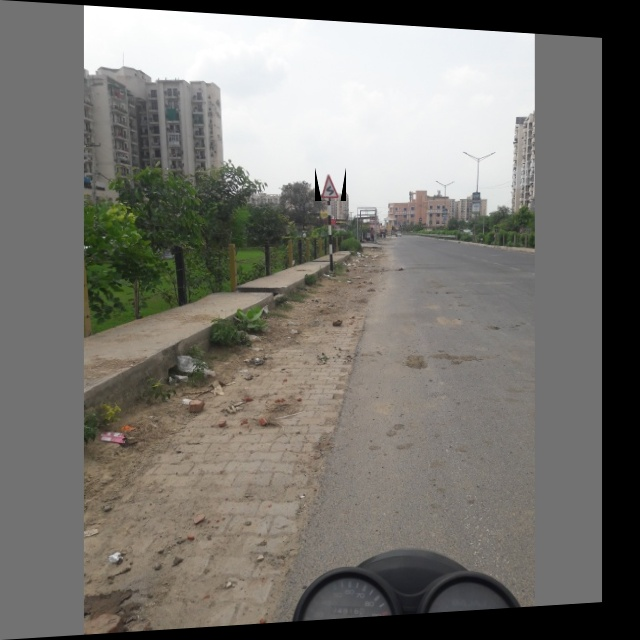Left_Reverse_Bend: (315, 167, 346, 201)
